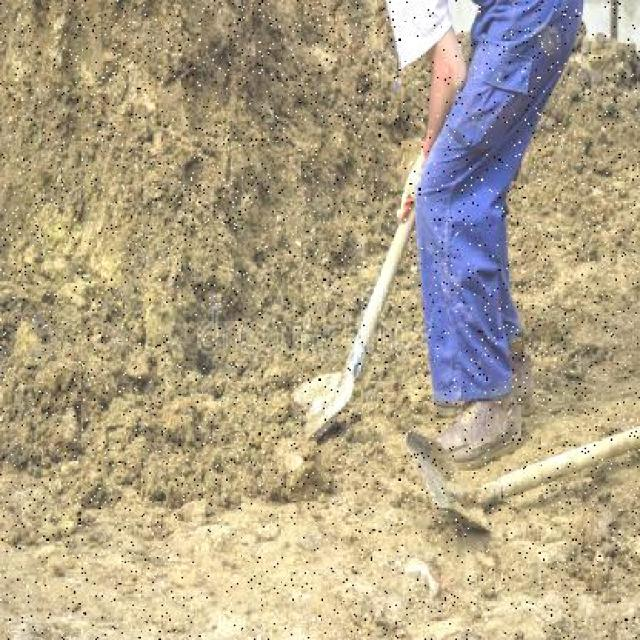shoes: (434, 388, 524, 464)
